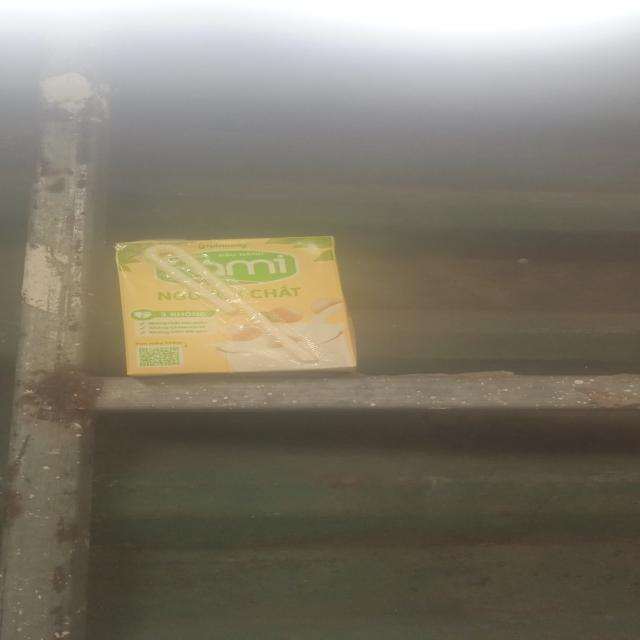Fami: (111, 226, 358, 380)
